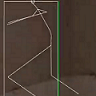hacks_1: (3, 1, 79, 96)
